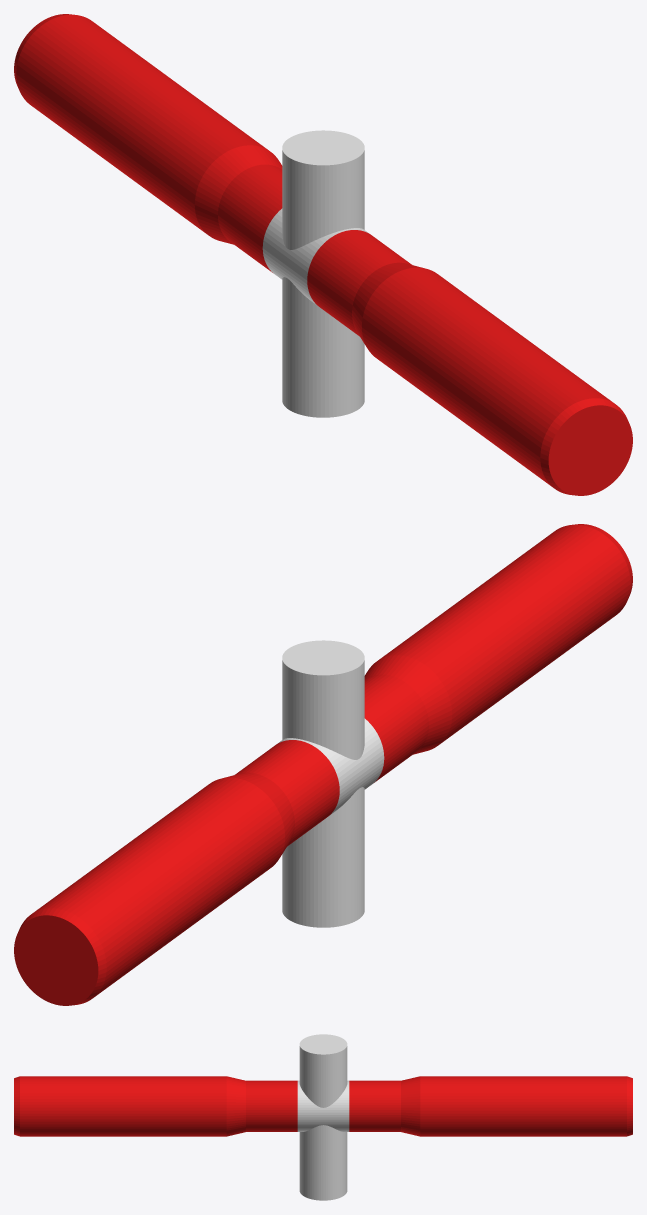
File: trap360.fbx
The picture shows the model from 3 angles, top to bottom: view 1: azimuth 30°, elevation 25°; view 2: azimuth 150°, elevation 25°; view 3: azimuth 270°, elevation 25°; orthographic projection. The views are drawn at different scales.
Parts seen in each view (by area): view 1: Cylinder; view 2: Cylinder; view 3: Cylinder.
Boxes of the visible parts, x1,y1,x2,y2 form: Cylinder: (14, 14, 632, 495); Cylinder: (14, 524, 632, 1005); Cylinder: (14, 1034, 632, 1200).
Size of the model in its own units: 112 by 300 by 1152.
